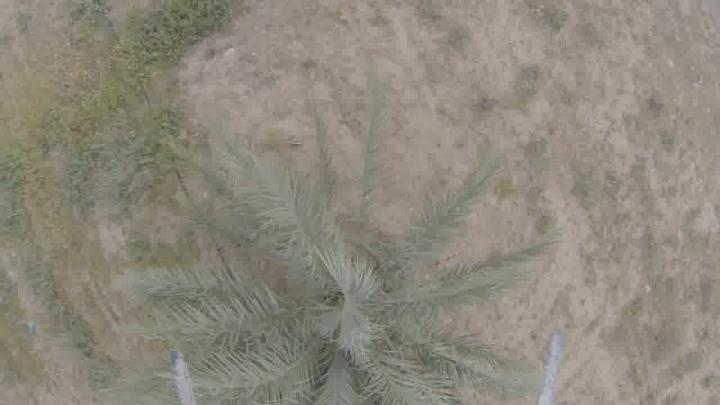Date-Palm-Crown: (216, 213, 439, 405)
